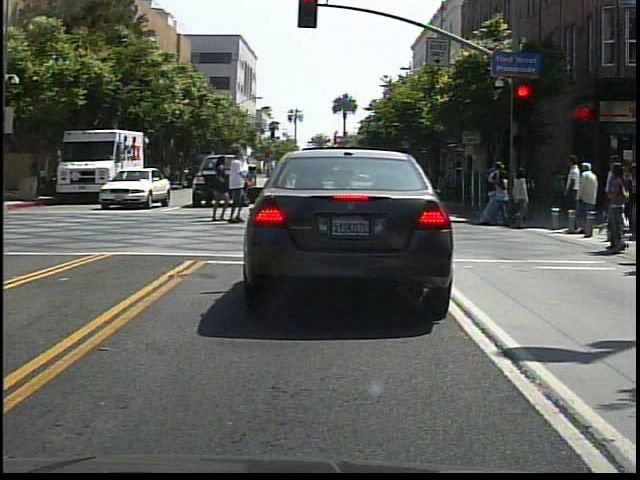person: (567, 158, 603, 245), (220, 153, 254, 229), (332, 156, 365, 218), (206, 151, 231, 229)
